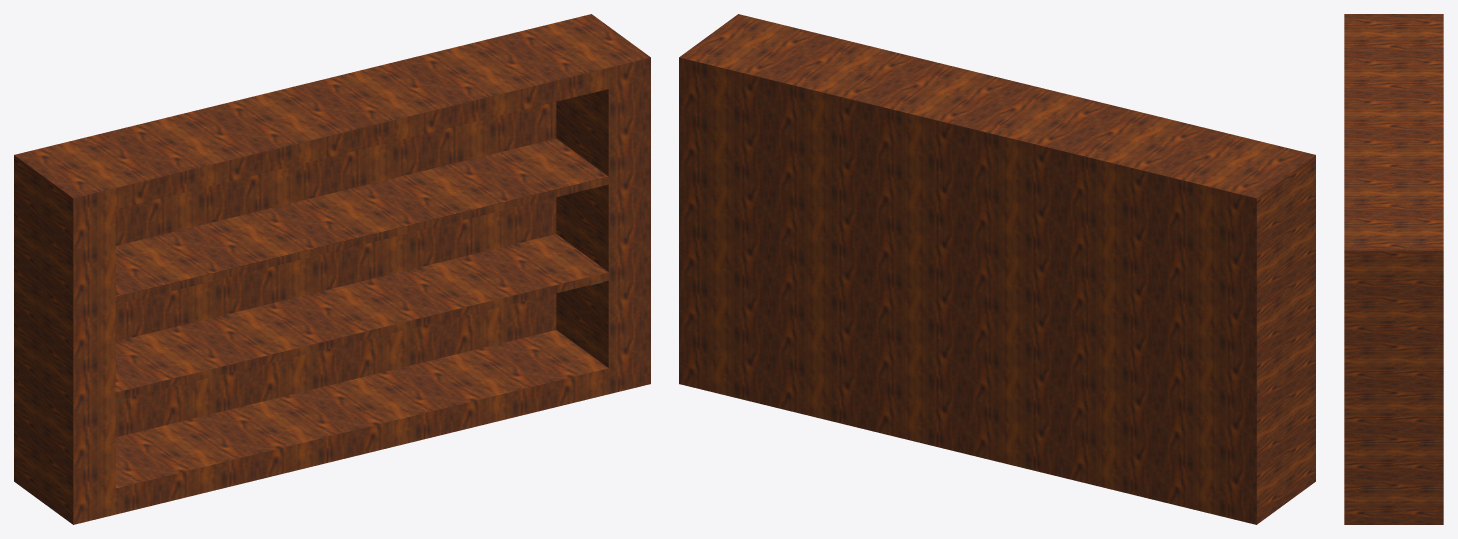
File: Shelf.fbx
The picture shows the model from 3 angles, left to right: view 1: azimuth 30°, elevation 25°; view 2: azimuth 150°, elevation 25°; view 3: azimuth 270°, elevation 25°; orthographic projection. The views are drawn at different scales.
Parts seen in each view (by area): view 1: Self; view 2: Self; view 3: Self.
Part boxes in pixels (x1,y1,x2,y2): Self: (14, 14, 650, 524); Self: (679, 14, 1315, 524); Self: (1344, 14, 1443, 524).
Size of the model in its own units: 319 by 172 by 56.77.
